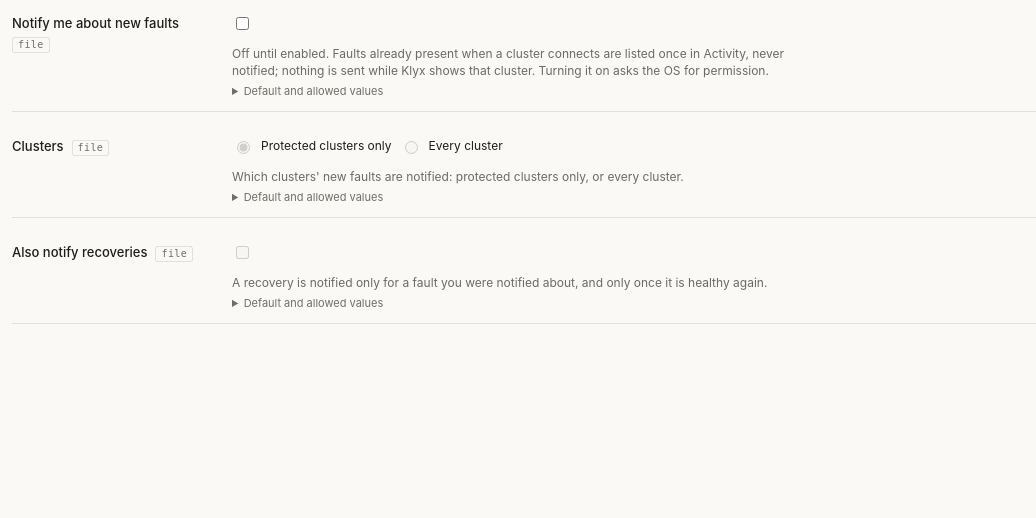
it: NotificationSettingsPanel › a toggle whose plan comes back for review is not applied by the page
Click the checkbox labelled "Notify me about new faults" at (242, 23), box top-left (236, 16), bottom-right (249, 30)
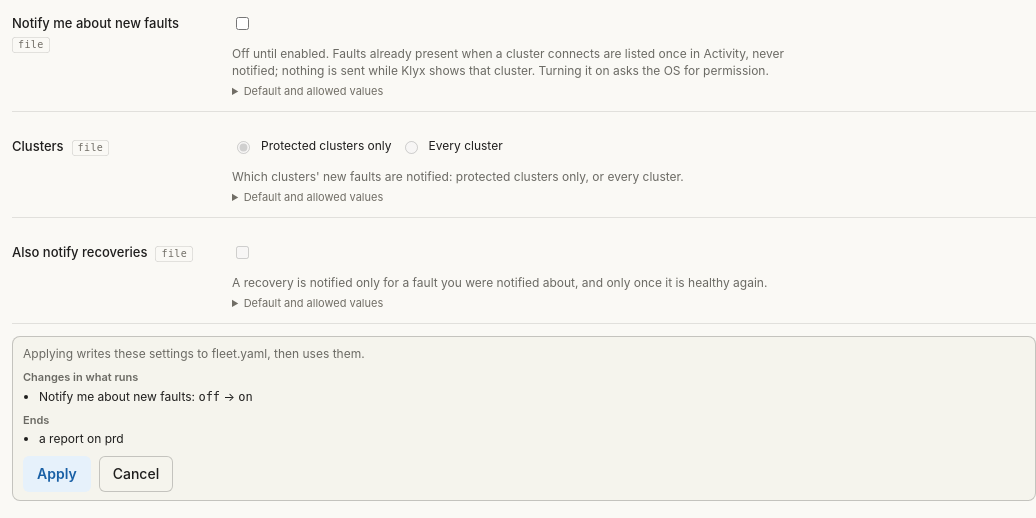
Expected: the element with test id "plan-ends" reads "a report on prd", top-left (39, 431), bottom-right (124, 446)
